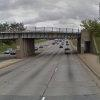Bridge: (5, 17, 83, 45)
